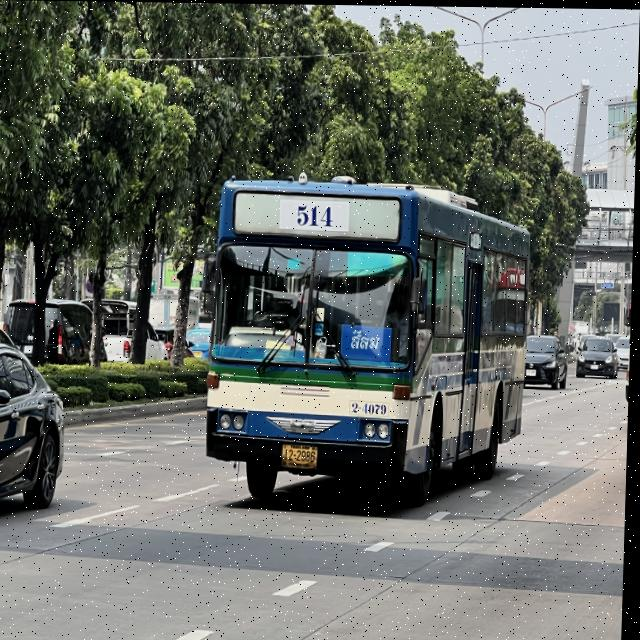BMTA-bus: (198, 163, 540, 513)
Bus-Line-Number: (280, 200, 352, 230)
Destination-Sign-Normal: (343, 323, 394, 361)
